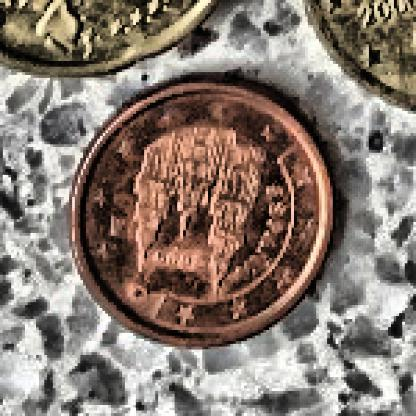coin: (68, 81, 336, 350)
